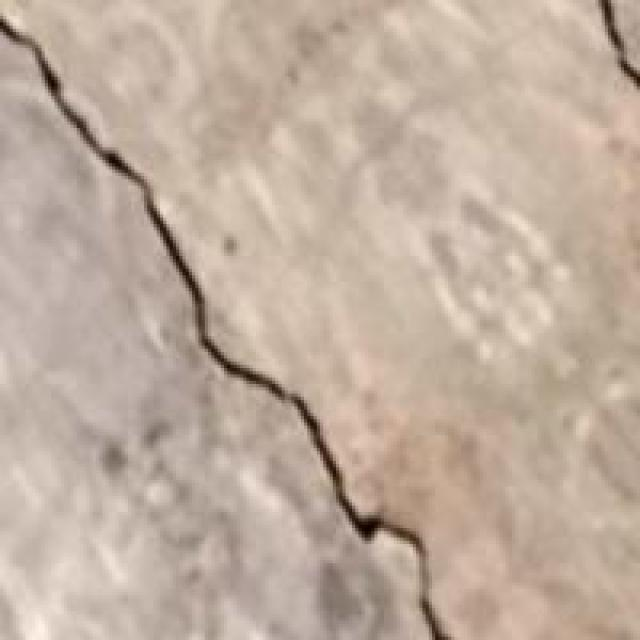Crack: (3, 6, 445, 637)
